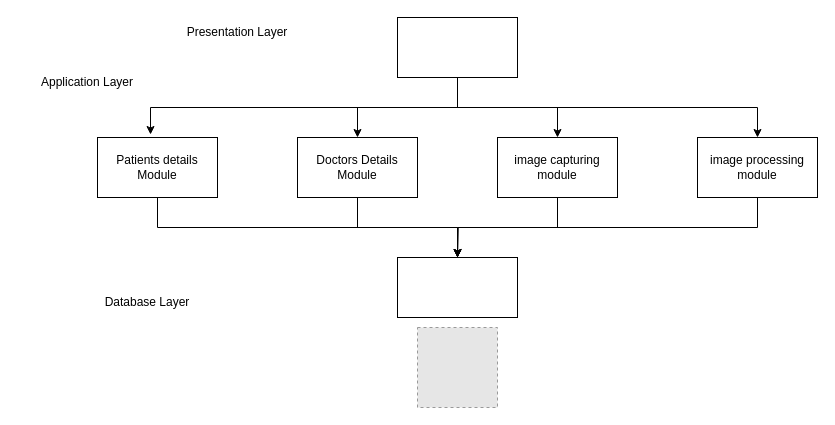
This 835x425 diagram has some shape labels left out. Grey dashed boxes stand in for pictures. Here are the shapes that lost their labels. From the top down, the centre of each, then its label:
At pixel 457 47: "Registration and Login".
At pixel 457 287: "Database Module".
